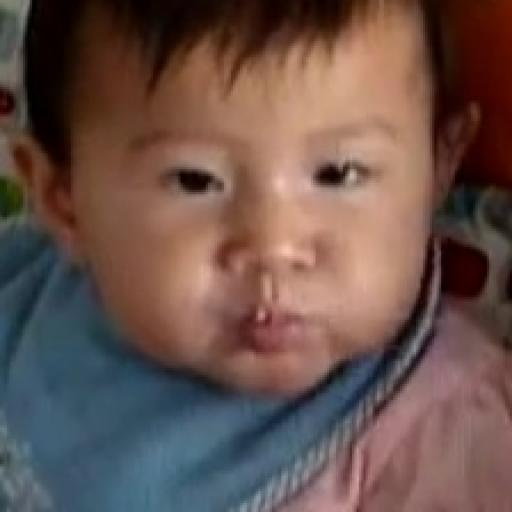Autism: (32, 0, 486, 414)
